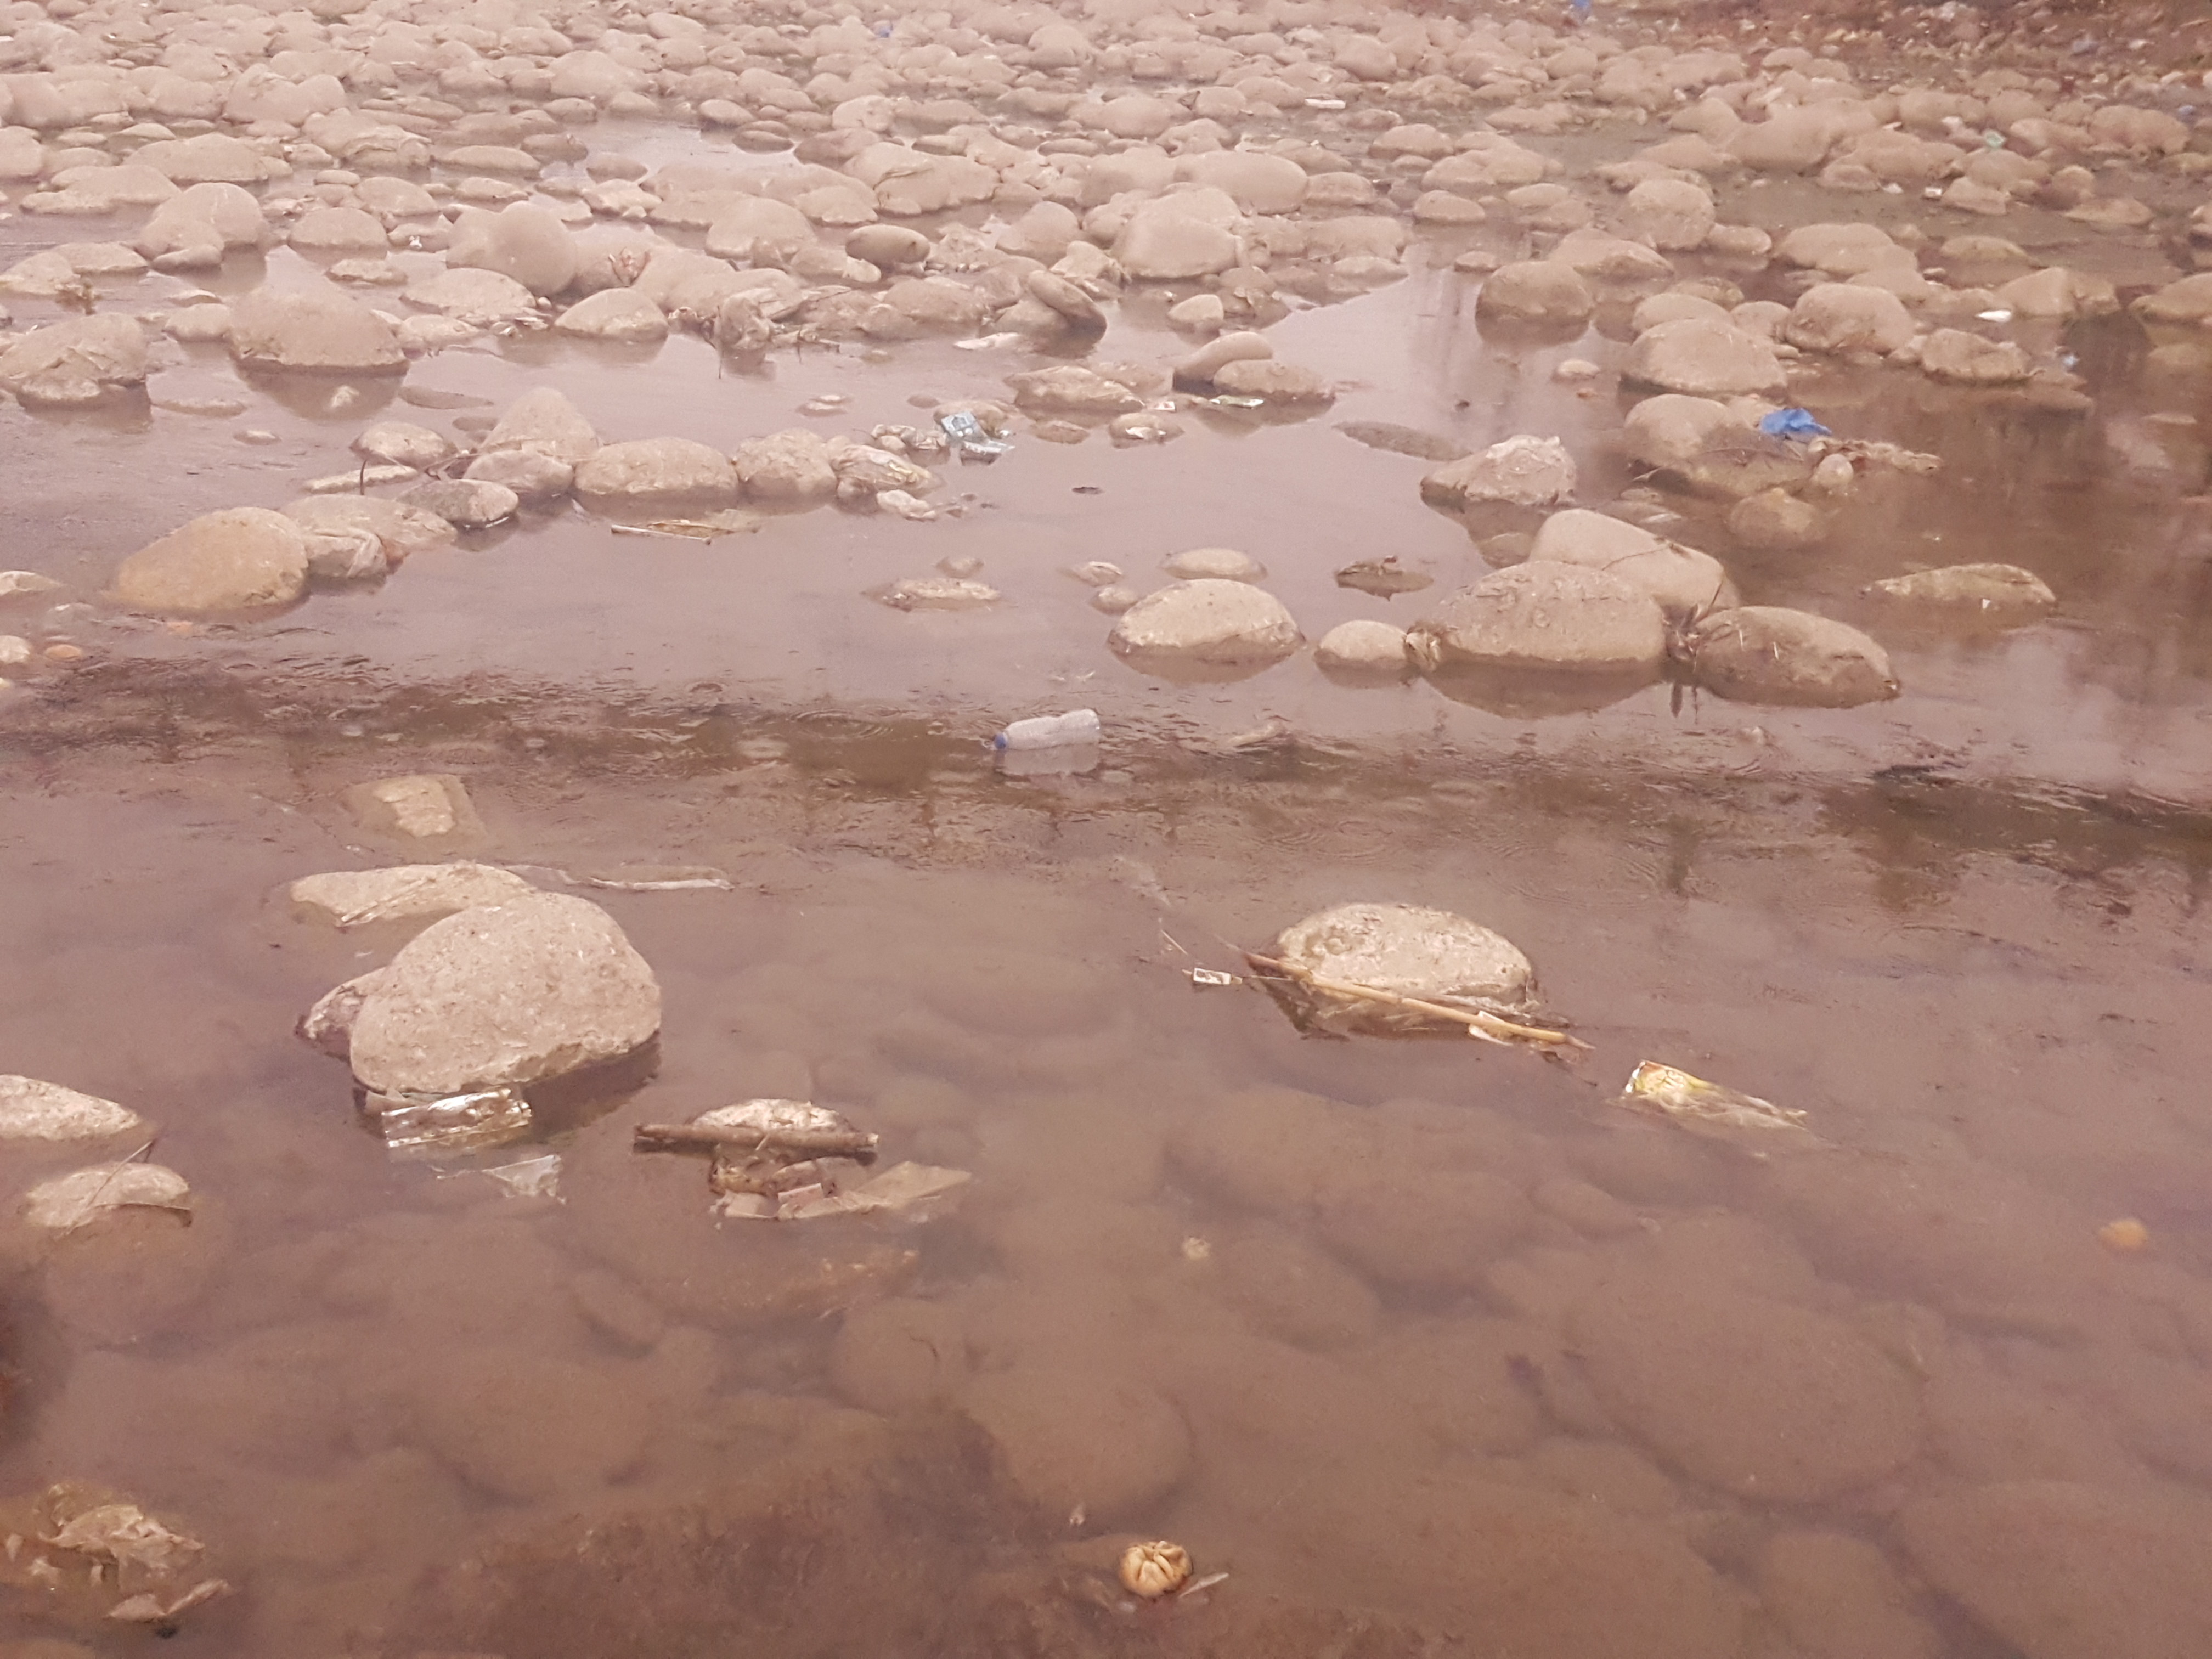Plastic Bottle: (995, 708, 1101, 748), (876, 486, 930, 519)
